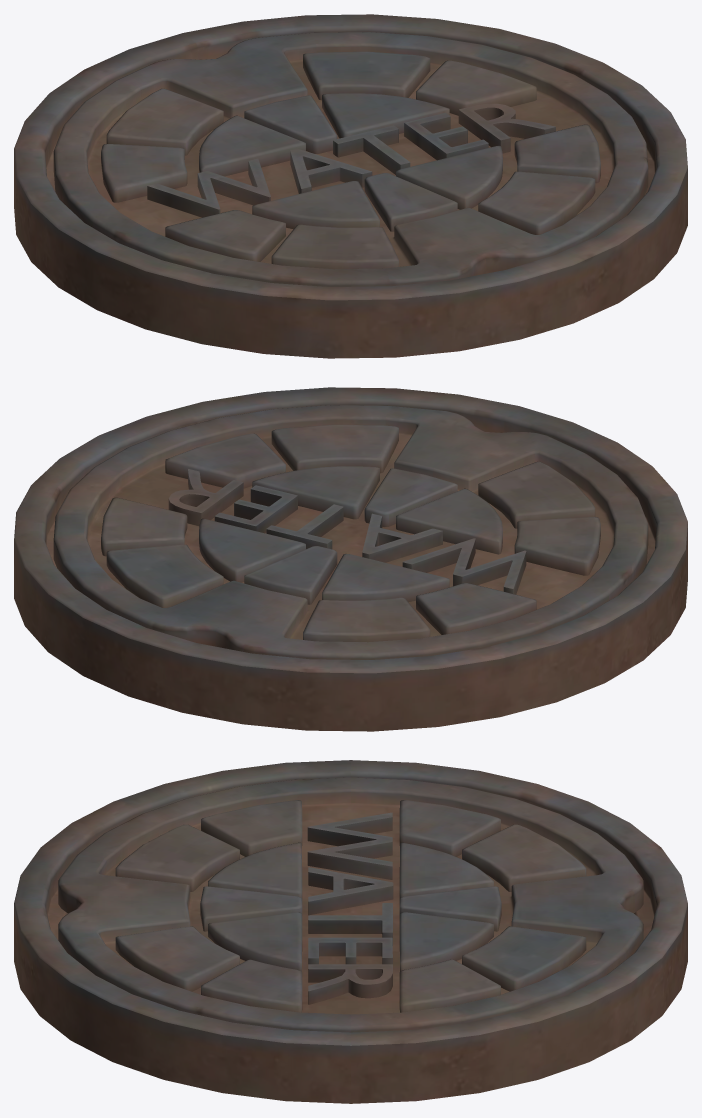
The model's file is water_manhole_cover.glb.
3 views of the same model, one above another, from view 1: azimuth 30°, elevation 25°; view 2: azimuth 150°, elevation 25°; view 3: azimuth 270°, elevation 25° (orthographic).
Parts seen in each view (by area): view 1: water_manhole_cover_frame; view 2: water_manhole_cover_frame; view 3: water_manhole_cover_frame.
Part boxes in pixels (x1,y1,x2,y2): water_manhole_cover_frame: (14, 14, 687, 358); water_manhole_cover_frame: (14, 387, 687, 731); water_manhole_cover_frame: (14, 760, 687, 1103).
Size of the model in its own units: 0.6908 by 0.0676 by 0.6908.
1 material, 1 textured.
